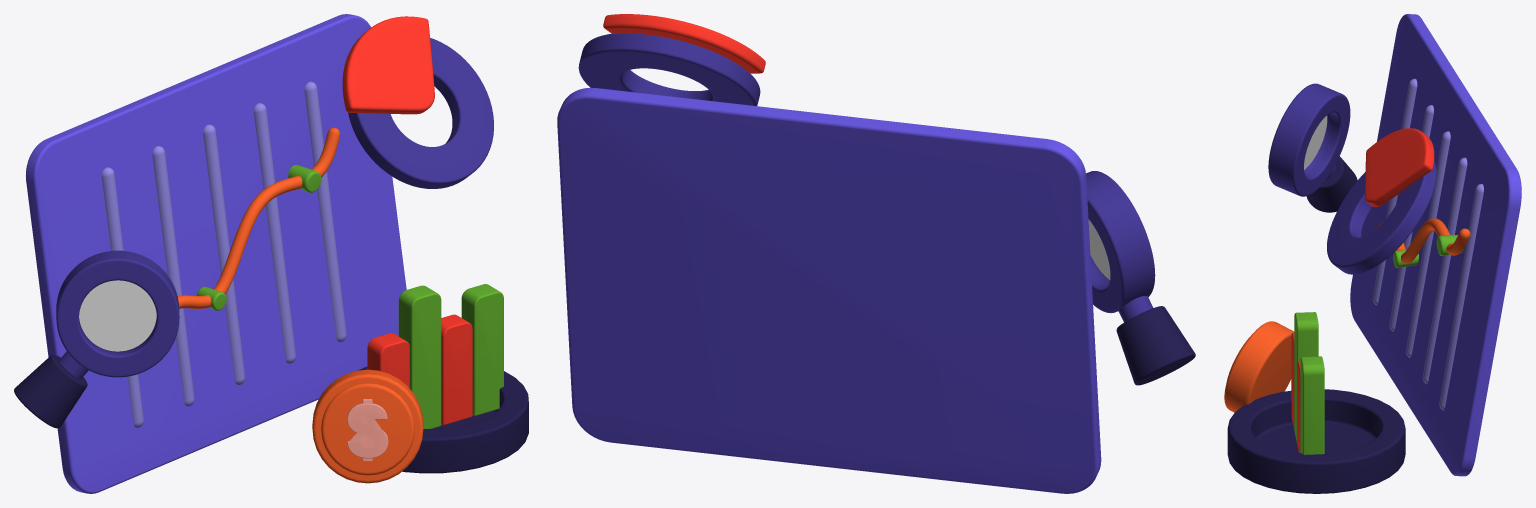
File: Investing Platform.fbx
3 views of the same model, side by side, from view 1: azimuth 30°, elevation 25°; view 2: azimuth 150°, elevation 25°; view 3: azimuth 270°, elevation 25° (orthographic). The views are drawn at different scales.
Parts seen in each view (by area): view 1: Plane.011, Cylinder.030, Cube.027, Cylinder.036, Cylinder.038, Cylinder.035, Cylinder.039, Cylinder.034, Cylinder.037, Vert.007, Text.005, Cylinder.033; view 2: Plane.011, Cylinder.038, Cylinder.036, Cylinder.037, Cylinder.039; view 3: Plane.011, Cylinder.034, Cylinder.030, Cylinder.036, Cylinder.038, Cube.027, Cylinder.035, Cylinder.039, Cylinder.037, Vert.007.
Part boxes in pixels (x1,y1,x2,y2): Plane.011: (26, 14, 406, 493); Cylinder.030: (101, 81, 346, 427); Cube.027: (367, 284, 503, 428); Cylinder.036: (56, 250, 179, 377); Cylinder.038: (348, 38, 493, 188); Cylinder.035: (312, 369, 423, 483); Cylinder.039: (342, 16, 434, 114); Cylinder.034: (358, 366, 528, 473); Cylinder.037: (14, 354, 87, 428); Vert.007: (177, 127, 340, 308); Text.005: (347, 399, 388, 461); Cylinder.033: (288, 165, 321, 192); Plane.011: (557, 87, 1101, 493); Cylinder.038: (578, 33, 760, 105); Cylinder.036: (1086, 171, 1155, 313); Cylinder.037: (1116, 306, 1195, 385); Cylinder.039: (603, 14, 765, 73); Plane.011: (1350, 14, 1521, 476); Cylinder.034: (1227, 389, 1405, 493); Cylinder.030: (1372, 78, 1483, 410); Cylinder.036: (1268, 83, 1350, 196); Cylinder.038: (1327, 161, 1436, 274); Cube.027: (1291, 312, 1324, 454); Cylinder.035: (1224, 321, 1294, 412); Cylinder.039: (1365, 128, 1434, 207); Cylinder.037: (1306, 156, 1357, 212); Vert.007: (1375, 218, 1470, 263).
Bounding box in the file's own units: 484 × 338 × 277.
